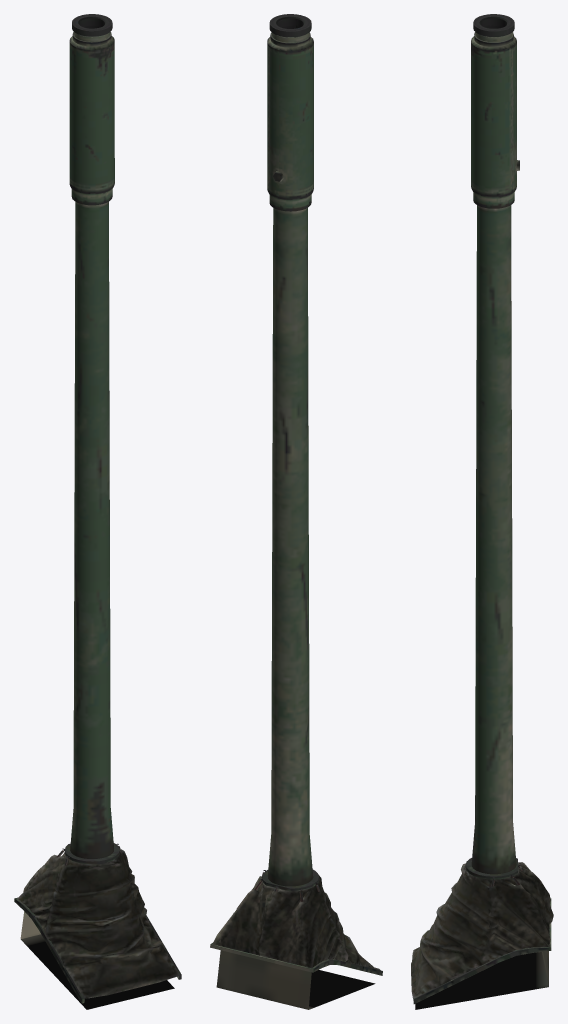
File: Gun_05.glb
The picture shows the model from 3 angles, left to right: view 1: azimuth 30°, elevation 25°; view 2: azimuth 150°, elevation 25°; view 3: azimuth 270°, elevation 25°; orthographic projection. The views are drawn at different scales.
Parts seen in each view (by area): view 1: set_0_group_0; view 2: set_0_group_0; view 3: set_0_group_0.
Part boxes in pixels (x1,y1,x2,y2): set_0_group_0: (14,14,181,1009); set_0_group_0: (210,14,382,1009); set_0_group_0: (411,14,553,1009).
Bounding box in the file's own units: 0.4529 × 4.05 × 0.5421.
Materials: 1 (1 with a texture image).
